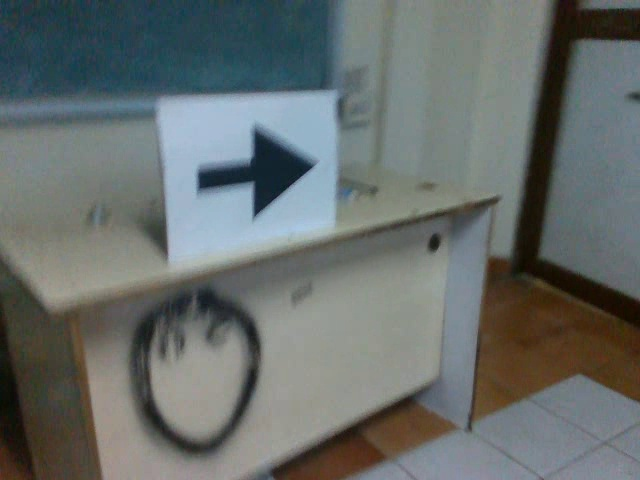Right: (186, 113, 321, 228)
